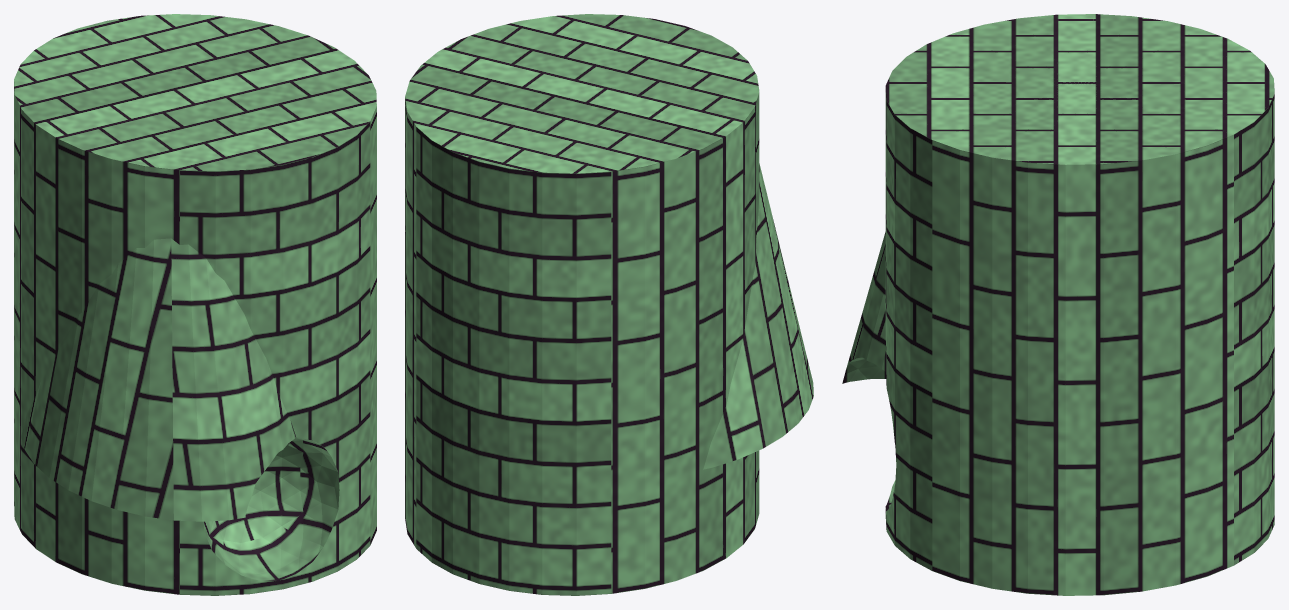
The picture shows the model from 3 angles, left to right: view 1: azimuth 30°, elevation 25°; view 2: azimuth 150°, elevation 25°; view 3: azimuth 270°, elevation 25°; orthographic projection. The views are drawn at different scales.
Parts seen in each view (by area): view 1: geometry_0; view 2: geometry_0; view 3: geometry_0.
Part boxes in pixels (x1=…): geometry_0: x1=14, y1=14, x2=376, y2=595; geometry_0: x1=405, y1=14, x2=813, y2=595; geometry_0: x1=842, y1=14, x2=1274, y2=595.
Bounding box in the file's own units: 1.38 × 1.71 × 1.56.
Materials: 1 (1 with a texture image).
